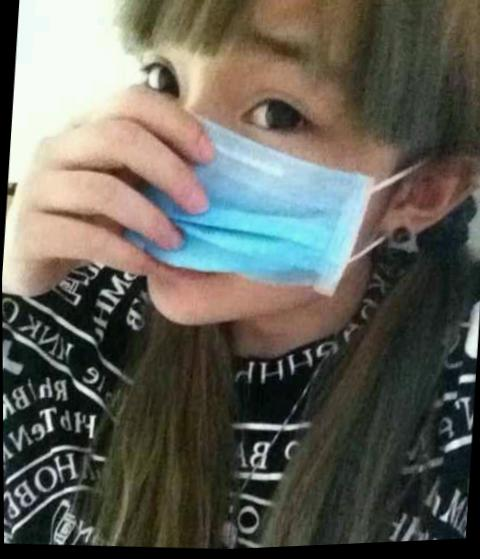WRONG: (109, 1, 390, 345)
